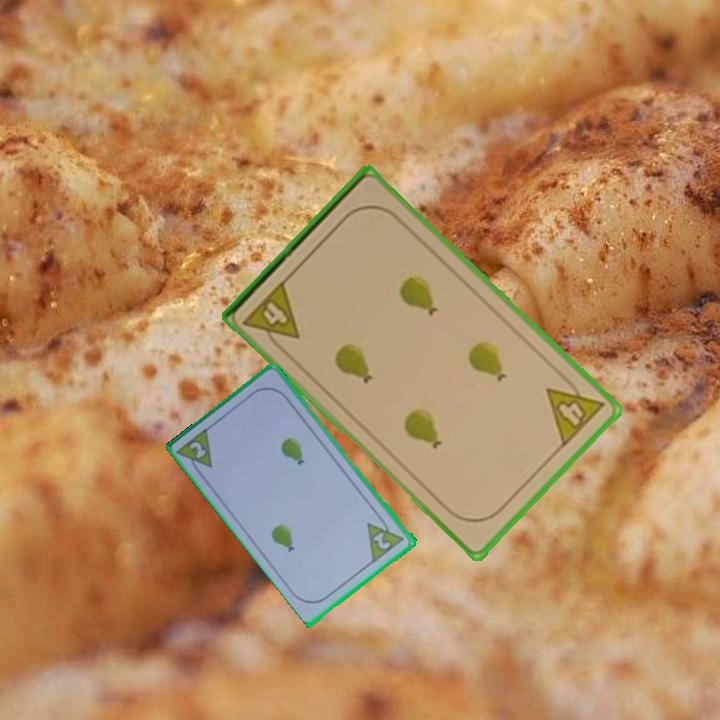2p: (370, 529, 394, 553), (186, 438, 210, 462)
4p: (542, 369, 607, 450), (240, 276, 303, 355)
